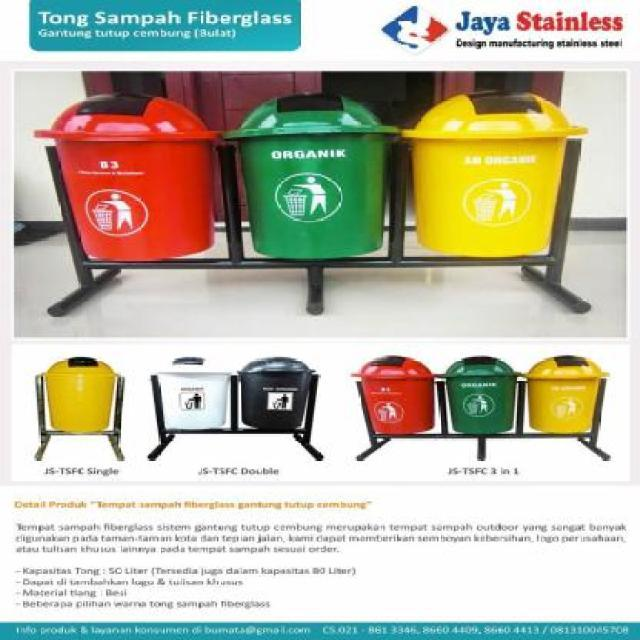garbage container: (389, 80, 590, 276), (216, 84, 404, 280), (36, 90, 225, 273), (35, 351, 132, 445), (239, 354, 327, 437)
